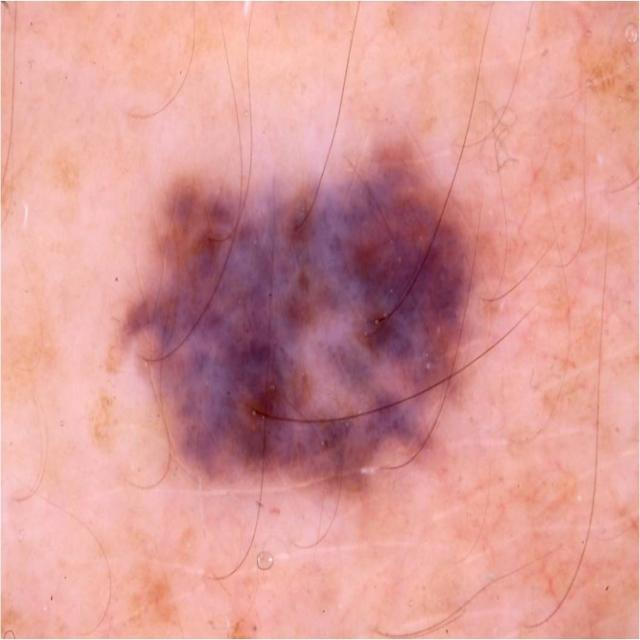Benign: (113, 140, 478, 498)
